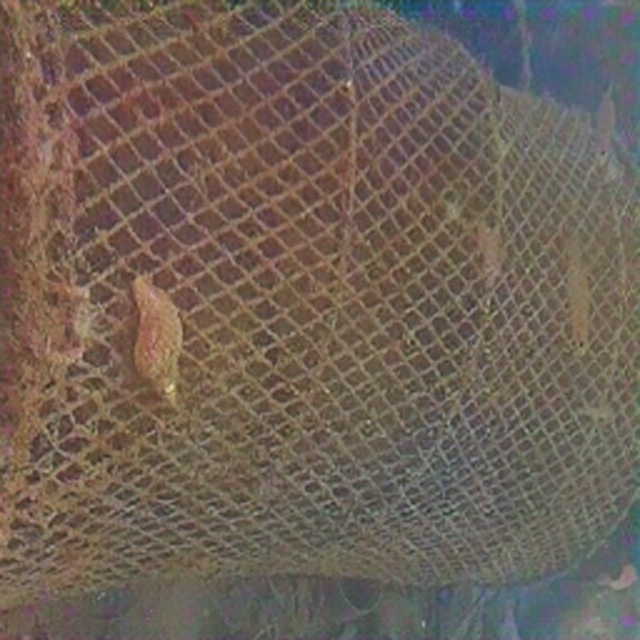mine: (0, 0, 640, 611)
